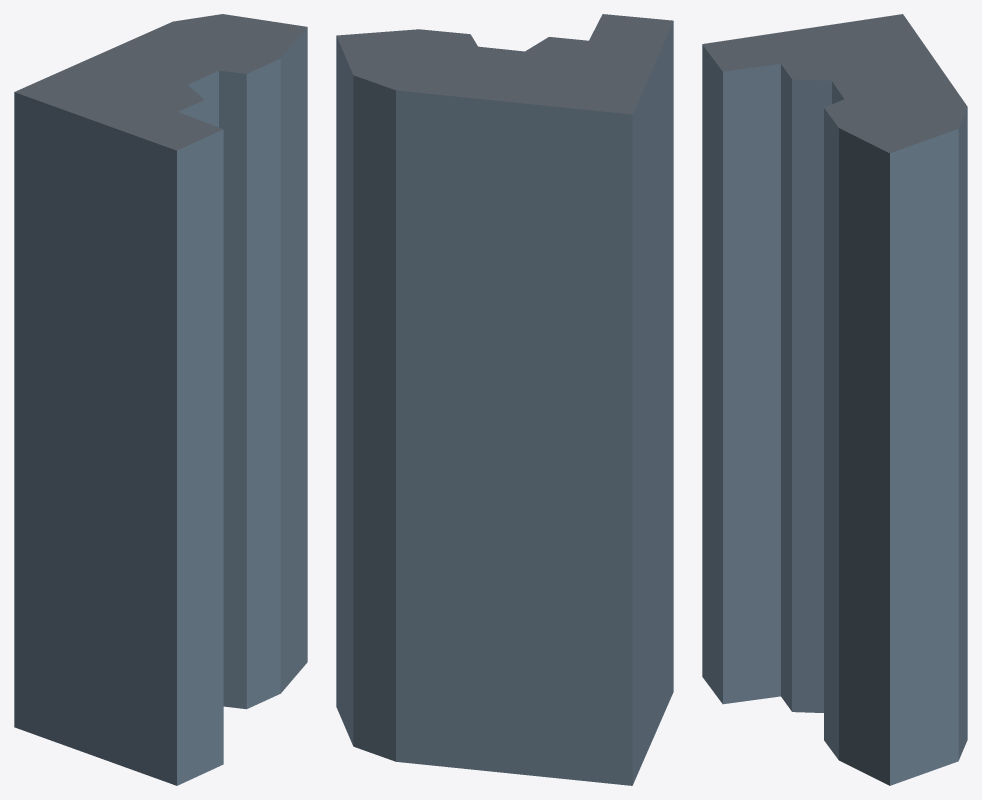
3 renders of one model, left to right at view 1: azimuth 30°, elevation 25°; view 2: azimuth 150°, elevation 25°; view 3: azimuth 270°, elevation 25°, orthographic. The views are drawn at different scales.
Visible parts, largest first — view 1: HP-w446933545; view 2: HP-w446933545; view 3: HP-w446933545.
Boxes of the visible parts, x1,y1,x2,y2 form: HP-w446933545: [14, 14, 307, 785]; HP-w446933545: [336, 14, 673, 785]; HP-w446933545: [702, 14, 967, 785].
Bounding box in the file's own units: 50.28 × 106 × 40.49.
